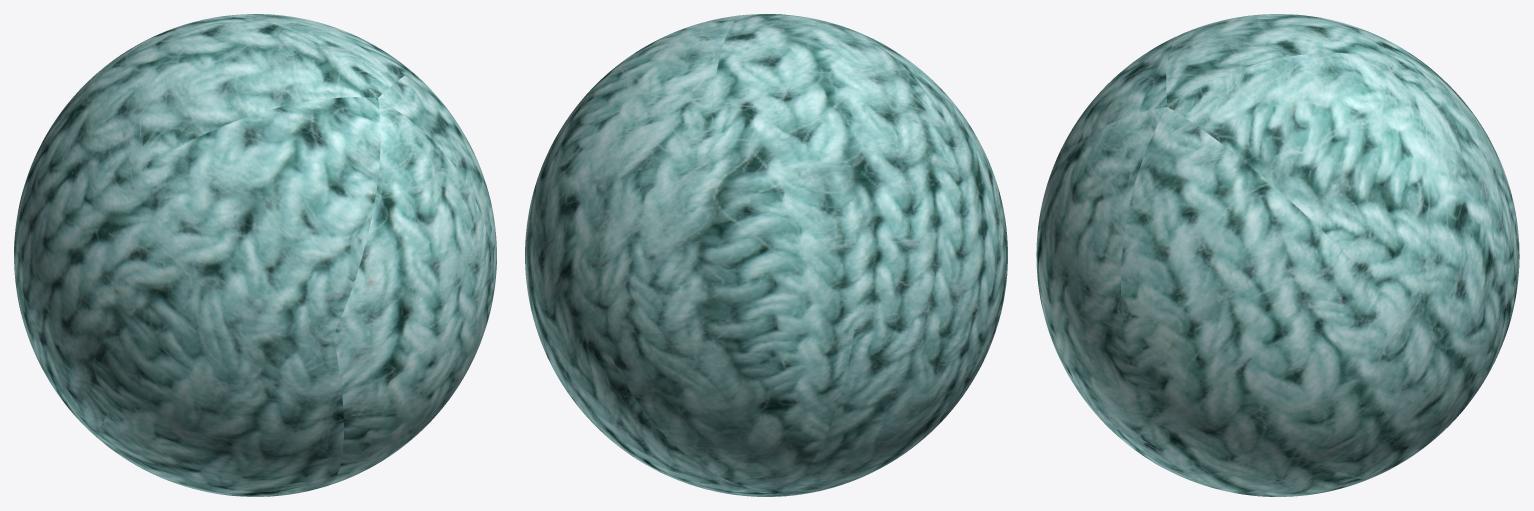
Rendered from ball3.obj.
3 views of the same model, side by side, from view 1: azimuth 30°, elevation 25°; view 2: azimuth 150°, elevation 25°; view 3: azimuth 270°, elevation 25° (orthographic).
Visible parts, largest first — view 1: Icosphere.002; view 2: Icosphere.002; view 3: Icosphere.002.
Part boxes in pixels (left/top/right/bottom): Icosphere.002: left=14, top=14, right=496, bottom=496; Icosphere.002: left=525, top=14, right=1007, bottom=496; Icosphere.002: left=1036, top=14, right=1519, bottom=496.
Bounding box in the file's own units: 0.9999 × 1 × 0.9999.
1 material, 1 textured.
